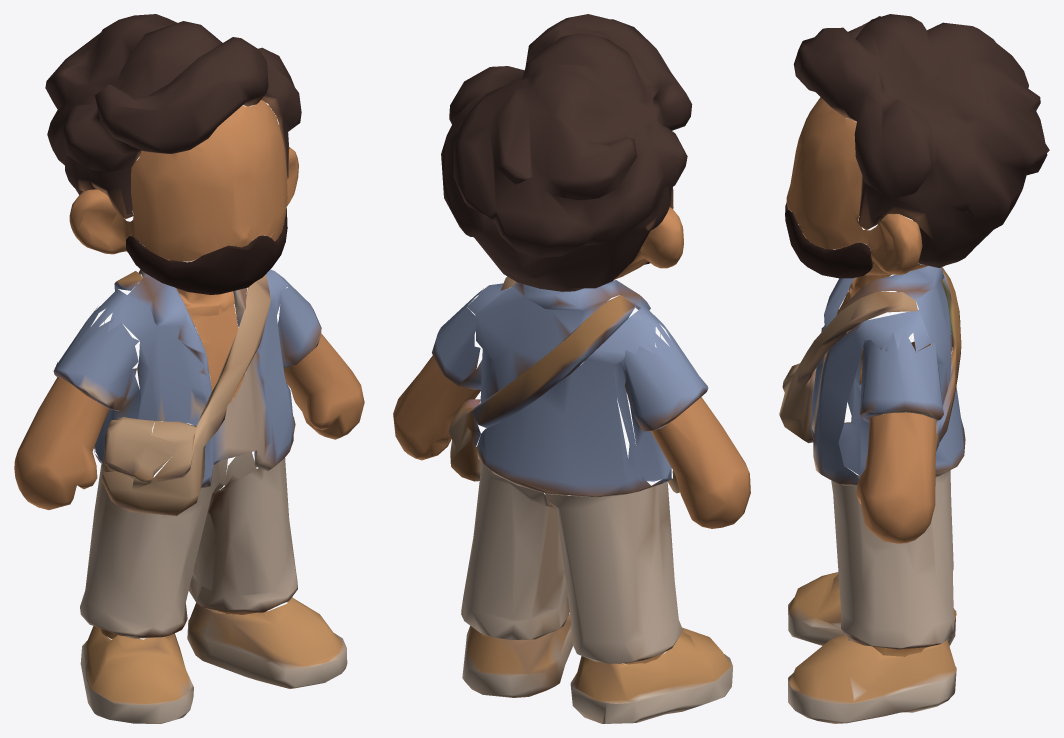
3 renders of one model, left to right at view 1: azimuth 30°, elevation 25°; view 2: azimuth 150°, elevation 25°; view 3: azimuth 270°, elevation 25°, orthographic.
Parts seen in each view (by area): view 1: hair, top, bottom, head, shoe_l, sleeve_r, shoe_r, hand_r, acc_head_beard, hand_l, sleeve_l; view 2: hair, top, bottom, shoe_r, hand_r, sleeve_r, shoe_l, sleeve_l, hand_l, head; view 3: hair, top, bottom, head, shoe_l, hand_l, sleeve_l, shoe_r, acc_head_beard.
Part boxes in pixels (x1,y1,x2,y2): hair: [45, 14, 301, 219]; top: [90, 269, 293, 515]; bottom: [80, 452, 297, 638]; head: [69, 100, 298, 402]; shoe_l: [187, 597, 347, 688]; sleeve_r: [53, 307, 175, 490]; shoe_r: [80, 626, 193, 723]; hand_r: [14, 377, 109, 509]; acc_head_beard: [126, 208, 287, 294]; hand_l: [283, 333, 364, 439]; sleeve_l: [275, 271, 321, 433]; hair: [441, 14, 692, 291]; top: [467, 276, 679, 497]; bottom: [461, 462, 682, 663]; shoe_r: [570, 627, 732, 723]; hand_r: [650, 397, 750, 528]; sleeve_r: [617, 326, 708, 481]; shoe_l: [462, 614, 572, 697]; sleeve_l: [432, 288, 483, 481]; hand_l: [393, 355, 480, 460]; head: [614, 207, 683, 279]; hair: [793, 14, 1049, 267]; top: [779, 264, 965, 486]; bottom: [831, 470, 953, 649]; head: [786, 97, 927, 377]; shoe_l: [788, 634, 956, 723]; hand_l: [856, 412, 935, 543]; sleeve_l: [838, 330, 943, 477]; shoe_r: [788, 572, 956, 656]; acc_head_beard: [785, 203, 872, 278].
Size of the model in its own units: 0.5682 by 1.03 by 0.3927.
